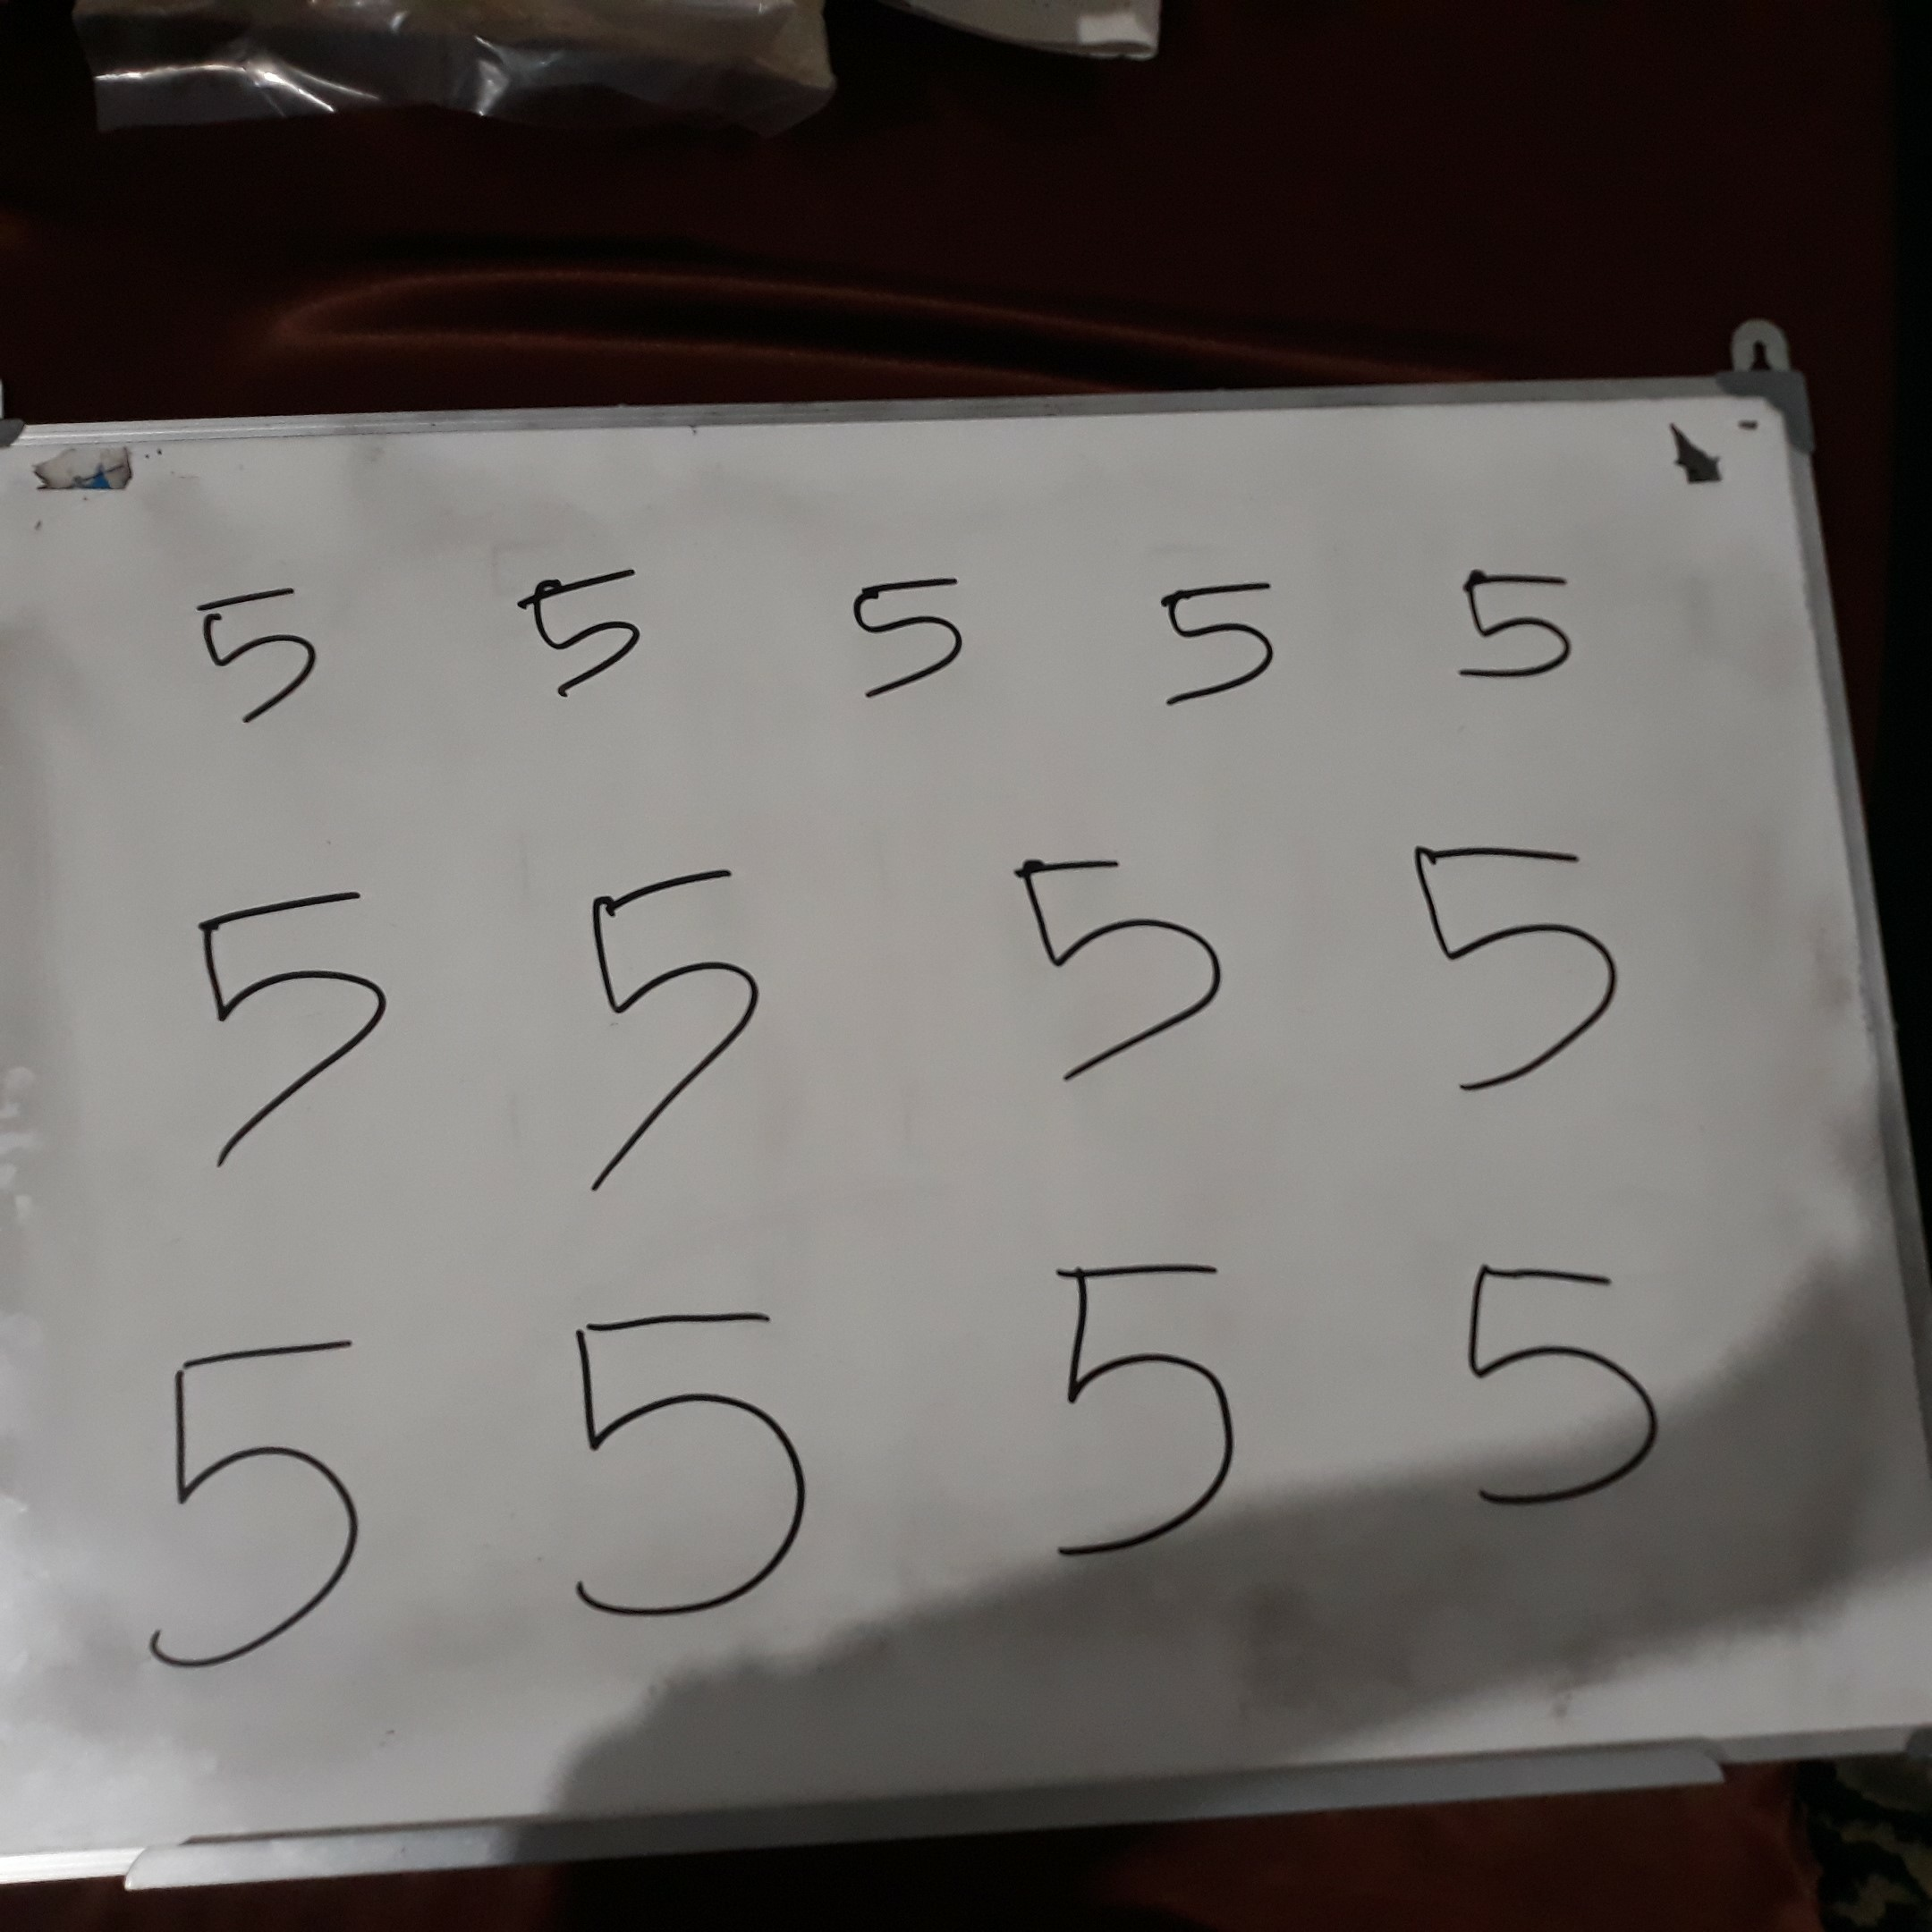num5: (131, 1327, 377, 1700), (559, 1296, 811, 1630), (555, 857, 779, 1208), (1027, 1253, 1254, 1570), (190, 873, 409, 1188), (1400, 835, 1634, 1110), (1445, 1251, 1666, 1520), (1004, 837, 1234, 1093), (189, 579, 337, 733), (504, 558, 652, 713), (832, 552, 980, 707), (1140, 565, 1288, 720), (1441, 543, 1589, 698)
